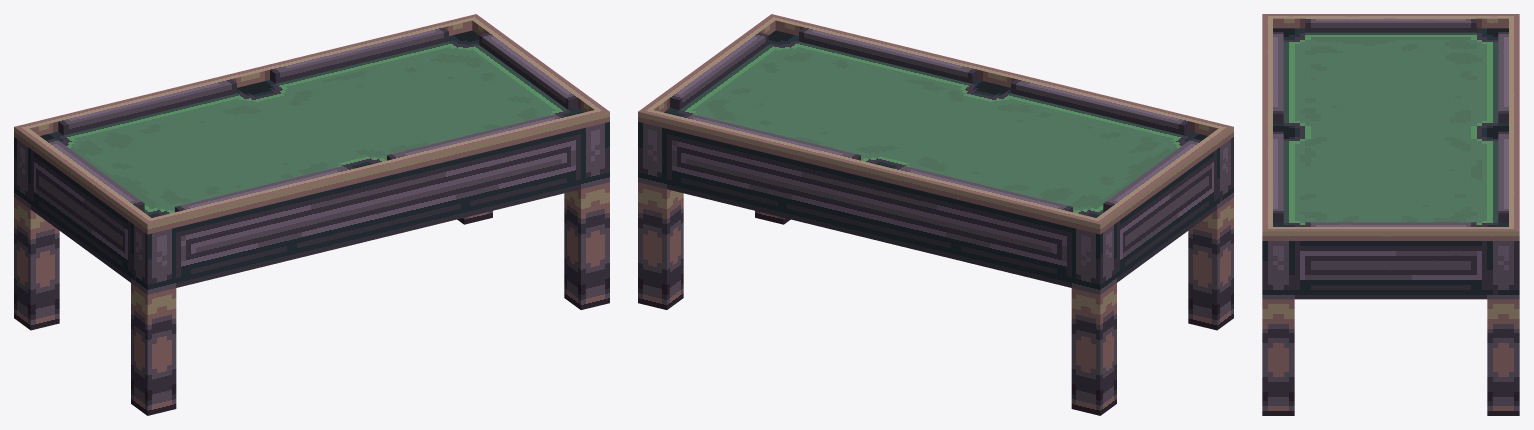
File: table_billiards.gltf
3 renders of one model, left to right at view 1: azimuth 30°, elevation 25°; view 2: azimuth 150°, elevation 25°; view 3: azimuth 270°, elevation 25°, orthographic. The views are drawn at different scales.
Visible parts, largest first — view 1: cube (×15); view 2: cube (×15); view 3: cube (×15).
Part boxes in pixels (bbox=[...]): cube (×15): bbox=[14, 23, 609, 415]; cube (×15): bbox=[638, 23, 1233, 415]; cube (×15): bbox=[1262, 14, 1519, 415].
Size of the model in its own units: 3 by 1.19 by 1.5.
Materials: 1 (1 with a texture image).
